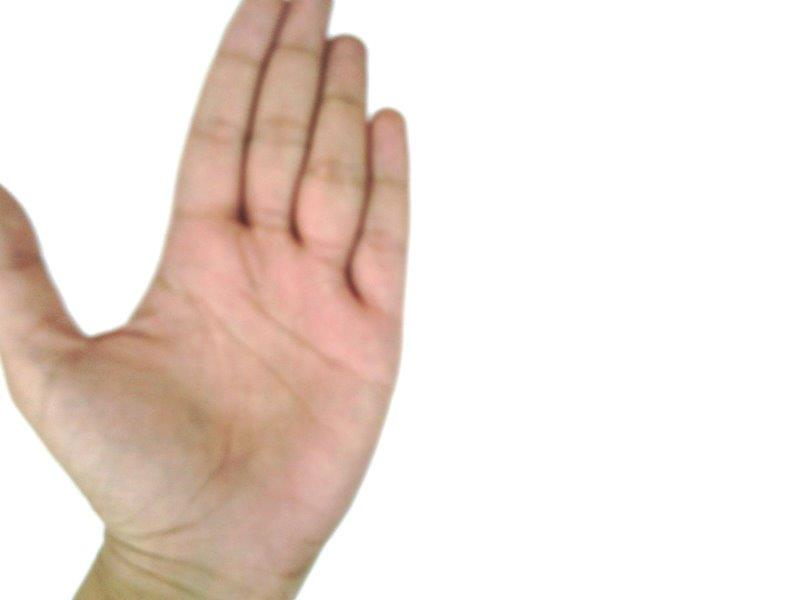hand: (1, 1, 409, 568)
